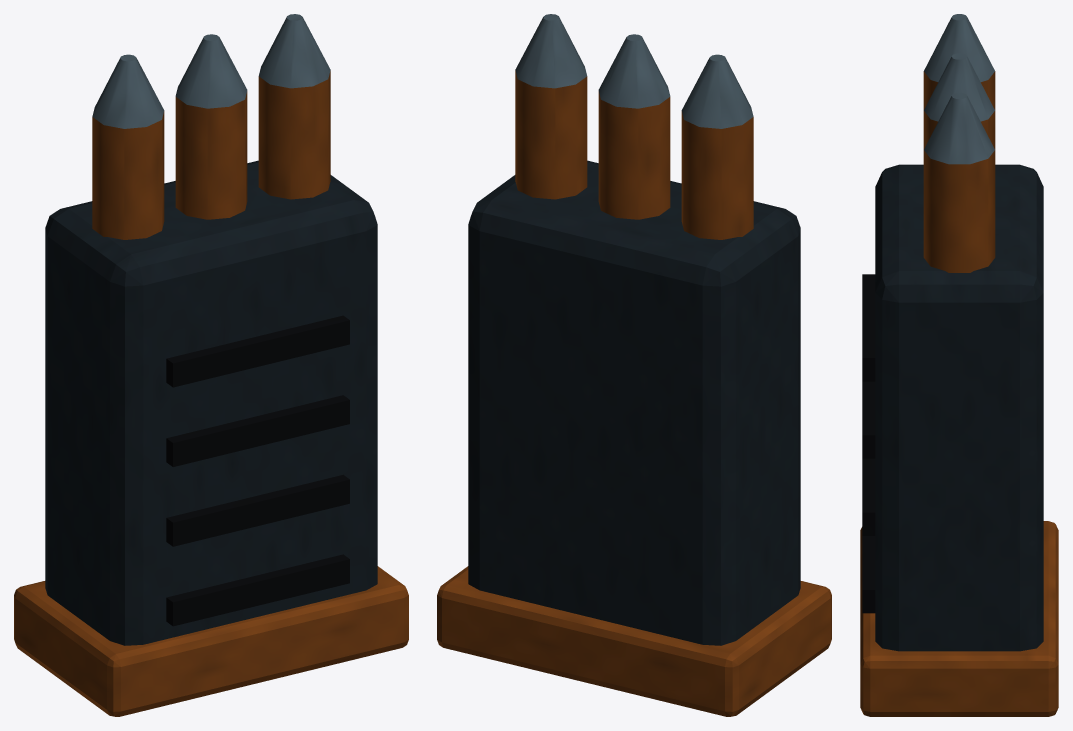
The model's file is bullet_clip.glb.
3 views of the same model, side by side, from view 1: azimuth 30°, elevation 25°; view 2: azimuth 150°, elevation 25°; view 3: azimuth 270°, elevation 25° (orthographic). The views are drawn at different scales.
Visible parts, largest first — view 1: bullet_clip; view 2: bullet_clip; view 3: bullet_clip.
Boxes of the visible parts, x1=… form: bullet_clip: x1=14, y1=14, x2=408, y2=716; bullet_clip: x1=437, y1=14, x2=831, y2=716; bullet_clip: x1=860, y1=14, x2=1058, y2=716.
Bounding box in the file's own units: 0.17 × 0.33 × 0.1.
4 materials, 4 textured.
